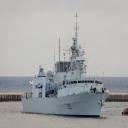Fragata: (22, 5, 111, 119)
